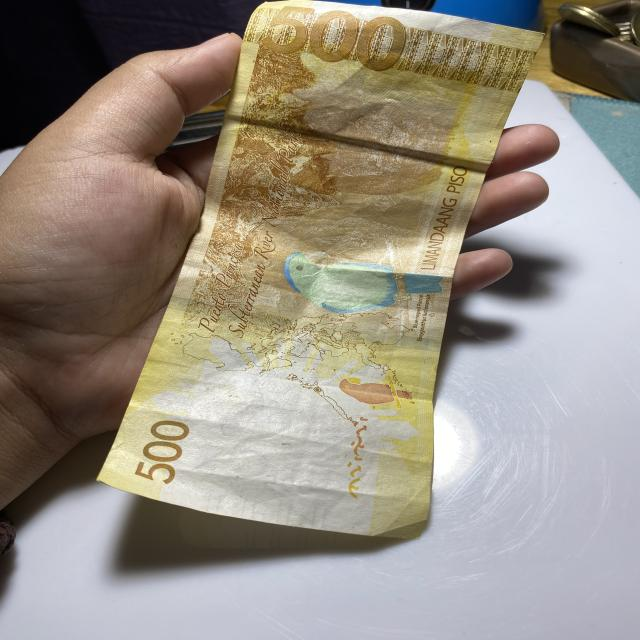500_big_parrot: (282, 250, 444, 318)
500_parrot_watermark: (341, 375, 418, 407)
value_watermark: (258, 472, 321, 492)
